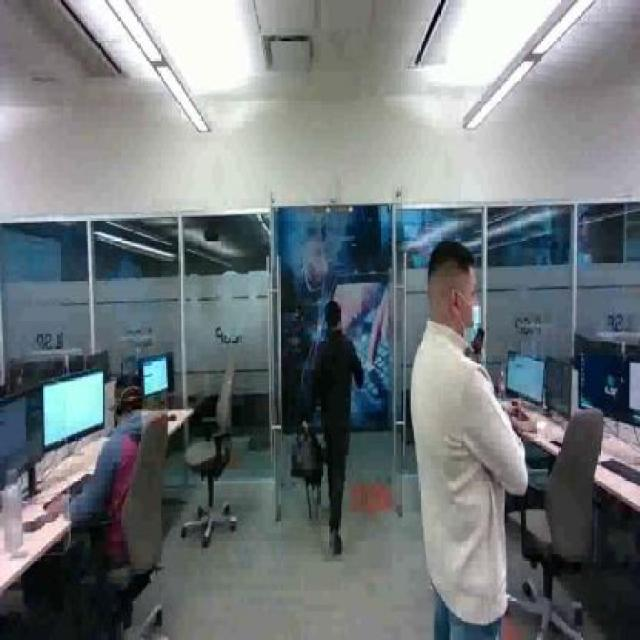sem_oculos: (444, 280, 477, 304)
